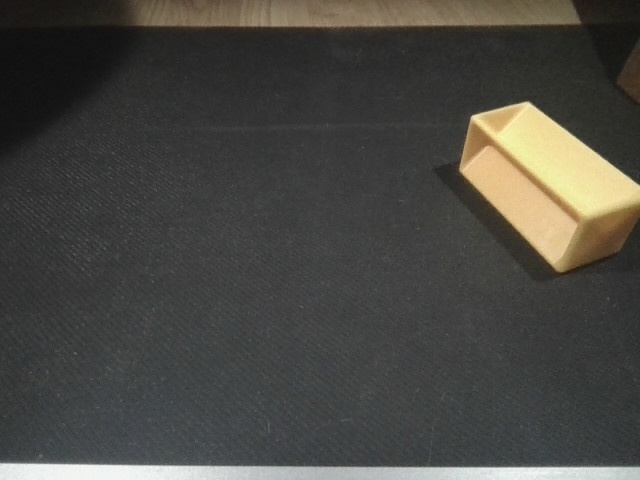YellowSample: (455, 93, 640, 293)
